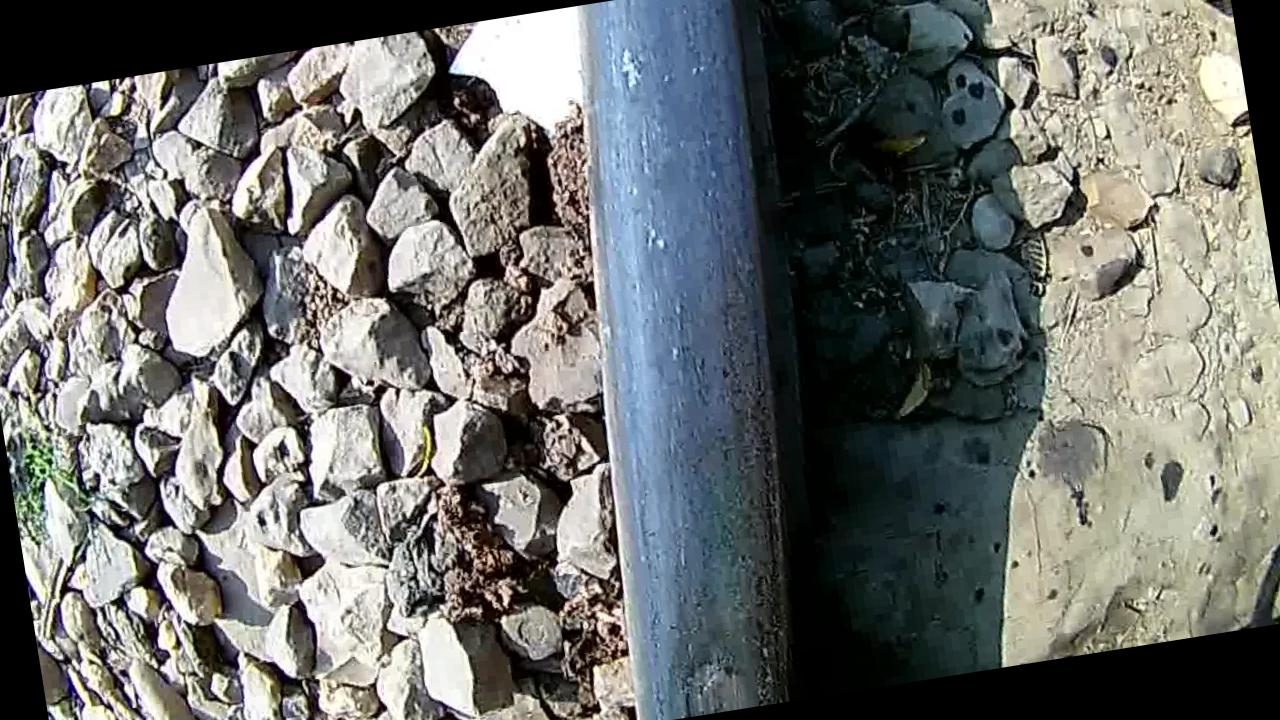bolt_missing: (623, 503, 807, 720)
